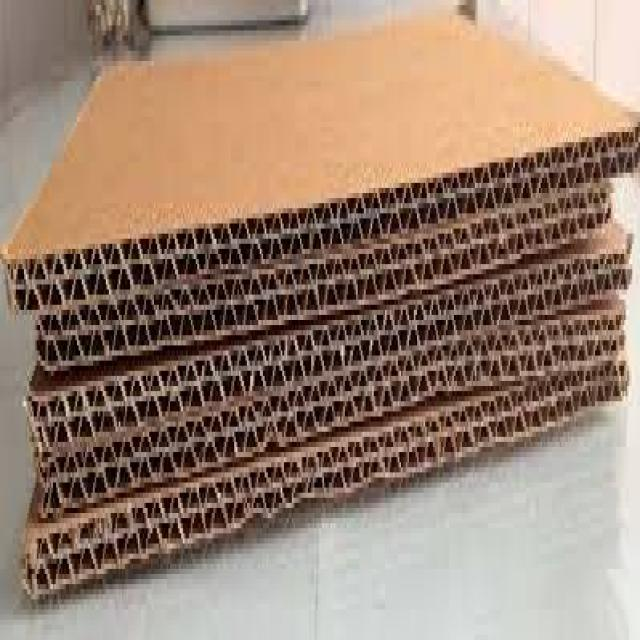cardboard: (0, 25, 638, 599), (0, 10, 638, 320)
